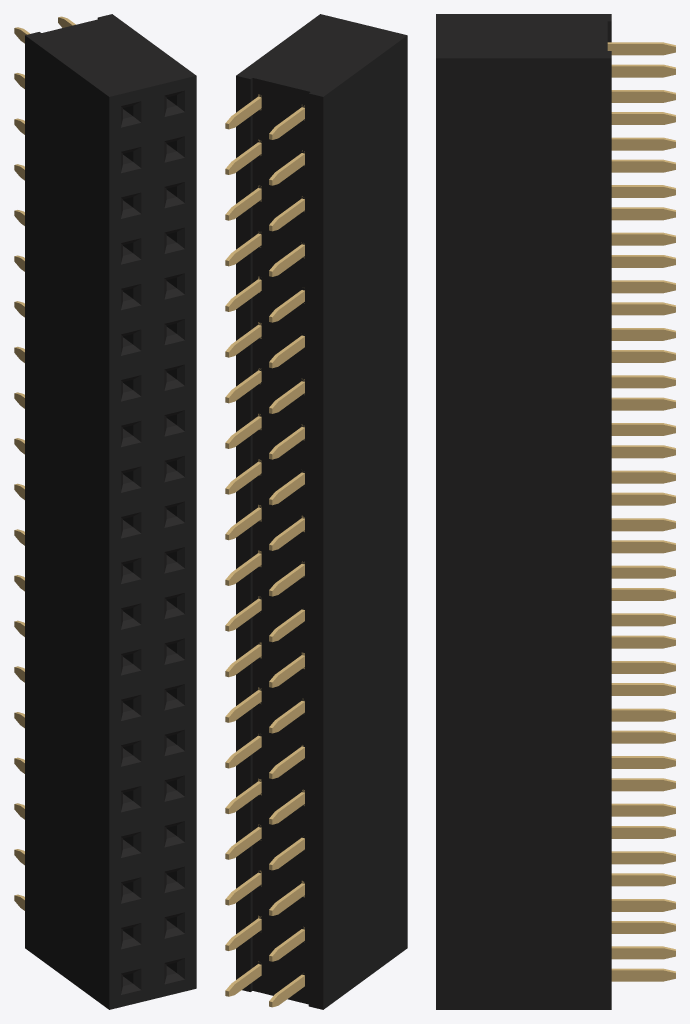
File: socket-2x20.glb
3 views of the same model, side by side, from view 1: azimuth 30°, elevation 25°; view 2: azimuth 150°, elevation 25°; view 3: azimuth 270°, elevation 25° (orthographic). The views are drawn at different scales.
Visible parts, largest first — view 1: IC-BODY-EPOXY-04, PIN-02; view 2: IC-BODY-EPOXY-04, PIN-02; view 3: IC-BODY-EPOXY-04, PIN-02 (×33).
Boxes of the visible parts, <box> form: IC-BODY-EPOXY-04: <box>25,14,196,1009</box>; PIN-02: <box>14,16,75,899</box>; IC-BODY-EPOXY-04: <box>236,14,407,1009</box>; PIN-02: <box>225,94,304,1007</box>; IC-BODY-EPOXY-04: <box>436,14,611,1009</box>; PIN-02 (×33): <box>607,42,675,981</box>.
Bounding box in the file's own units: 5.08 × 50.8 × 11.6.
